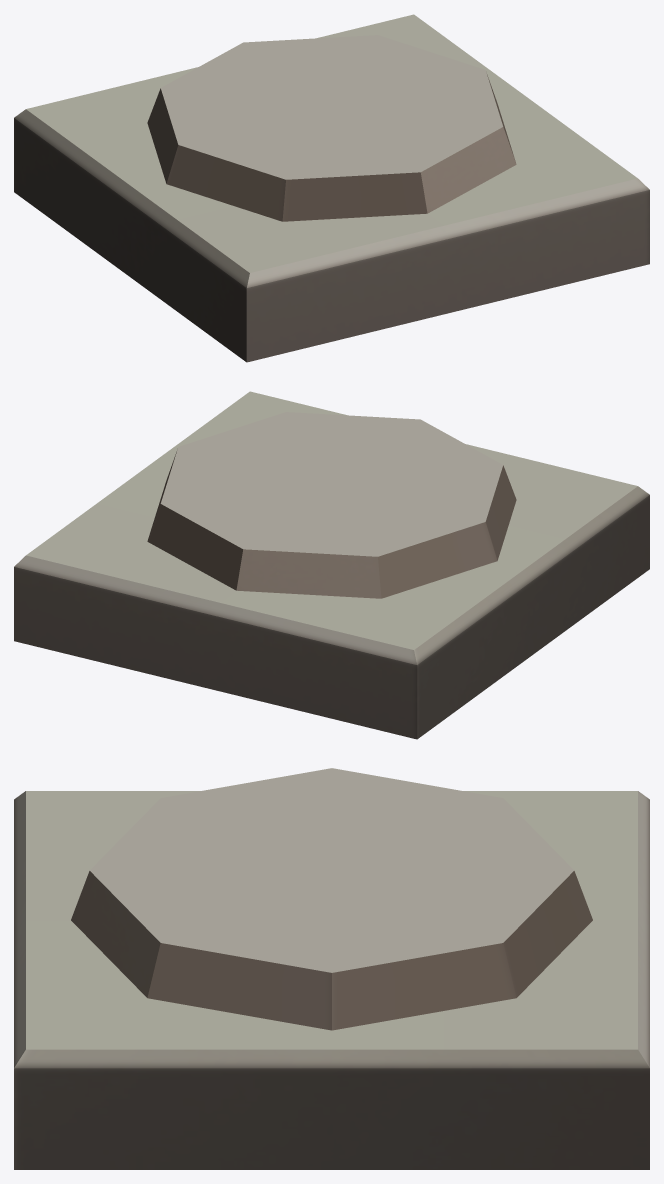
File: transfer gate_1.FBX
The picture shows the model from 3 angles, top to bottom: view 1: azimuth 30°, elevation 25°; view 2: azimuth 150°, elevation 25°; view 3: azimuth 270°, elevation 25°; orthographic projection. The views are drawn at different scales.
Visible parts, largest first — view 1: transfer gate_1; view 2: transfer gate_1; view 3: transfer gate_1.
Part boxes in pixels (box(x1,y1,x2,y2)): transfer gate_1: box(14, 14, 649, 362); transfer gate_1: box(14, 391, 649, 739); transfer gate_1: box(14, 768, 649, 1169).
Bounding box in the file's own units: 100 × 28.62 × 100.
